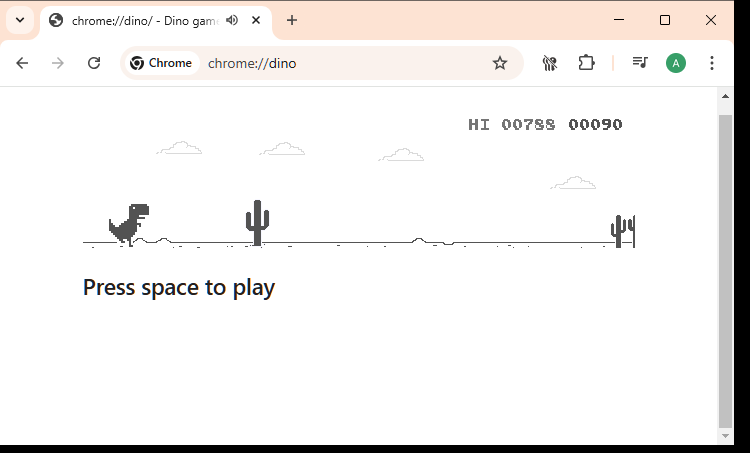cactus: (245, 199, 270, 247), (610, 214, 627, 249)
dino: (108, 203, 150, 248)
